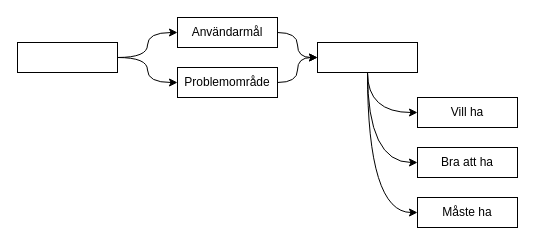
The diagram is 535 pixels wide and 245 high, and some of its shapes have lost their labels. The centre of each missing label's shape, as x and y in pixels:
"Funktioner" goes at pixel 367 57.
"Personas" goes at pixel 67 57.
